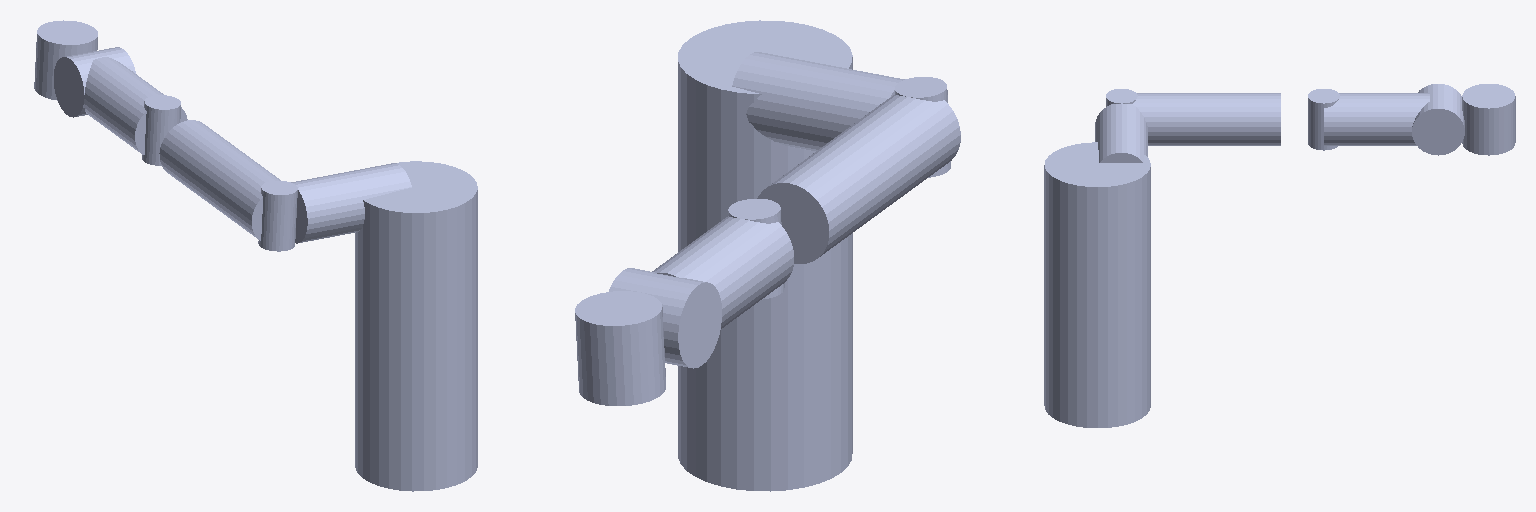
URDF robot description (rightarm):
<?xml version="1.0" encoding="utf-8"?>
<!-- This URDF was automatically created by SolidWorks to URDF Exporter! Originally created by Stephen Brawner (brawner@gmail.com) 
     Commit Version: 1.6.0-1-g15f4949  Build Version: 1.6.7594.29634
     For more information, please see http://wiki.ros.org/sw_urdf_exporter -->
<robot
  name="rightarm">
  <link
    name="base_link">
    <inertial>
      <origin
        xyz="0 0 0"
        rpy="0 0 0" />
      <mass
        value="0.29324" />
      <inertia
        ixx="0.00029756"
        ixy="-6.9587E-20"
        ixz="1.5542E-21"
        iyy="0.0017453"
        iyz="2.2537E-22"
        izz="0.002038" />
    </inertial>
    <visual>
      <origin
        xyz="0 0 0"
        rpy="0 0 0" />
      <geometry>
        <cylinder radius = "0.1" length = "0.5"  />
      </geometry>
      <material
        name="">
        <color
          rgba="0.79216 0.81961 0.93333 1" />
      </material>
    </visual>
  </link>
  <link
    name="llink1">
    <inertial>
      <origin
        xyz="0.041639 -9.5415E-08 0.078526"
        rpy="0 0 0" />
      <mass
        value="0.24987" />
      <inertia
        ixx="0.0006271"
        ixy="1.91E-10"
        ixz="-0.00020699"
        iyy="0.00072937"
        iyz="-5.8334E-10"
        izz="0.00053567" />
    </inertial>
    <visual>
      <origin
        xyz="0 0 0"
        rpy="0 0 0" />
      <geometry>
        <cylinder radius = "0.05" length = "0.2"  />
      </geometry>
      <material
        name="">
        <color
          rgba="0.79216 0.81961 0.93333 1" />
      </material>
    </visual>
  </link>
  <joint
    name="ljoint1"
    type="revolute">
    <origin
      xyz="-0.10762 0.045 0.22804"
      rpy="0 -1.51839 0" />
    <parent
      link="base_link" />
    <child
      link="llink1" />
    <axis
      xyz="0 0 1" />
    <limit
      lower="0"
      upper="0"
      effort="0"
      velocity="0" />
  </joint>
  <link
    name="llink2">
    <inertial>
      <origin
        xyz="-1.0311E-05 -0.065331 0.0058056"
        rpy="0 0 0" />
      <mass
        value="0.26286" />
      <inertia
        ixx="0.0021103"
        ixy="-9.1802E-09"
        ixz="-3.0245E-08"
        iyy="0.00073404"
        iyz="-0.00010005"
        izz="0.0021757" />
    </inertial>
    <visual>
      <origin
        xyz="0 0 0"
        rpy="0 0 0" />
      <geometry>
        <cylinder radius = "0.03" length = "0.1"  />
      </geometry>
      <material
        name="">
        <color
          rgba="0.79216 0.81961 0.93333 1" />
      </material>
    </visual>
  </link>
  <joint
    name="ljoint2"
    type="revolute">
    <origin
      xyz="0 0 0.1265"
      rpy="0 1.57079 0 " />
    <parent
      link="llink1" />
    <child
      link="llink2" />
    <axis
      xyz="0 0 1" />
    <limit
      lower="0"
      upper="0"
      effort="0"
      velocity="0" />
  </joint>
  <link
    name="llink3">
    <inertial>
      <origin
        xyz="4.0057E-08 0.0035526 0.30728"
        rpy="0 0 0" />
      <mass
        value="0.16256" />
      <inertia
        ixx="0.0010114"
        ixy="5.8972E-10"
        ixz="-1.6559E-10"
        iyy="0.0010189"
        iyz="-4.2106E-05"
        izz="0.00031705" />
    </inertial>
    <visual>
      <origin
        xyz="0 0 0.15"
        rpy="0 0 0" />
      <geometry>
        <cylinder radius = "0.05" length = "0.3"  />
      </geometry>
      <material
        name="">
        <color
          rgba="0.79216 0.81961 0.93333 1" />
      </material>
    </visual>
  </link>
  <joint
    name="ljoint3"
    type="revolute">
    <origin
      xyz="0 0 0"
      rpy="-1.5708 0 0" />
    <parent
      link="llink2" />
    <child
      link="llink3" />
    <axis
      xyz="0 0 1" />
    <limit
      lower="0"
      upper="0"
      effort="0"
      velocity="0" />
  </joint>
  <link
    name="llink4">
    <inertial>
      <origin
        xyz="1.1177E-07 -0.074915 0.036559"
        rpy="0 0 0" />
      <mass
        value="0.19929" />
      <inertia
        ixx="0.00072501"
        ixy="2.5788E-10"
        ixz="-9.3888E-11"
        iyy="0.00027207"
        iyz="-0.00017365"
        izz="0.00066506" />
    </inertial>
    <visual>
      <origin
        xyz="0 0 0"
        rpy="0 0 0" />
      <geometry>
        <cylinder radius = "0.03" length = "0.1"  />
      </geometry>
      <material
        name="">
        <color
          rgba="0.79216 0.81961 0.93333 1" />
      </material>
    </visual>
  </link>
  <joint
    name="ljoint4"
    type="revolute">
    <origin
      xyz="0 0 0.38"
      rpy="1.5708 0 0" />
    <parent
      link="llink3" />
    <child
      link="llink4" />
    <axis
      xyz="0 0 1" />
    <limit
      lower="0"
      upper="0"
      effort="0"
      velocity="0" />
  </joint>
  <link
    name="llink5">
    <inertial>
      <origin
        xyz="2.1676E-06 0.0070445 0.19825"
        rpy="0 0 0" />
      <mass
        value="0.066574" />
      <inertia
        ixx="0.00013147"
        ixy="-2.7479E-09"
        ixz="1.8702E-09"
        iyy="0.00013187"
        iyz="-7.9202E-06"
        izz="0.0001047" />
    </inertial>
    <visual>
      <origin
        xyz="0 0 -0.1"
        rpy="0 0 0" />
      <geometry>
        <cylinder radius = "0.05" length = "0.2"  />
      </geometry>
      <material
        name="">
        <color
          rgba="0.79216 0.81961 0.93333 1" />
      </material>
    </visual>
  </link>
  <joint
    name="ljoint5"
    type="revolute">
    <origin
      xyz="0 0 0"
      rpy="1.5708 0 0" />
    <parent
      link="llink4" />
    <child
      link="llink5" />
    <axis
      xyz="0 0 1" />
    <limit
      lower="0"
      upper="0"
      effort="0"
      velocity="0" />
  </joint>
  <link
    name="llink6">
    <inertial>
      <origin
        xyz="-0.0039441 -0.068911 0.030139"
        rpy="0 0 0" />
      <mass
        value="0.10811" />
      <inertia
        ixx="0.00019728"
        ixy="6.4772E-12"
        ixz="-3.1094E-06"
        iyy="0.00010812"
        iyz="-9.3227E-07"
        izz="0.00020592" />
    </inertial>
    <visual>
      <origin
        xyz="0 0 0"
        rpy="0 0 0" />
      <geometry>
        <cylinder radius = "0.05" length = "0.1"  />
      </geometry>
      <material
        name="">
        <color
          rgba="0.79216 0.81961 0.93333 1" />
      </material>
    </visual>
  </link>
  <joint
    name="ljoint6"
    type="revolute">
    <origin
      xyz="0 0 -0.215"
      rpy="0 1.5708 0" />
    <parent
      link="llink5" />
    <child
      link="llink6" />
    <axis
      xyz="0 0 1" />
    <limit
      lower="0"
      upper="0"
      effort="0"
      velocity="0" />
  </joint>
  <link
    name="llink7">
    <inertial>
      <origin
        xyz="3.1729E-09 -0.028673 0.033919"
        rpy="0 0 0" />
      <mass
        value="0.044605" />
      <inertia
        ixx="5.762E-05"
        ixy="6.3373E-12"
        ixz="2.7464E-12"
        iyy="3.3691E-05"
        iyz="-1.6616E-05"
        izz="5.028E-05" />
    </inertial>
    <visual>
      <origin
        xyz="0 0 0"
        rpy="0 0 0" />
      <geometry>
        <cylinder radius = "0.05" length = "0.1"  />
      </geometry>
      <material
        name="">
        <color
          rgba="0.79216 0.81961 0.93333 1" />
      </material>
    </visual>
  </link>
  <joint
    name="ljoint7"
    type="revolute">
    <origin
      xyz="0.095 0 0"
      rpy="0 -1.5708 -1.5708" />
    <parent
      link="llink6" />
    <child
      link="llink7" />
    <axis
      xyz="0 0 1" />
    <limit
      lower="0"
      upper="0"
      effort="0"
      velocity="0" />
  </joint>
</robot>

--- What the picture shows (computed from the rendered views, not written in the file) ---
The picture shows the robot from 3 angles, left to right: view 1: azimuth 30°, elevation 25°; view 2: azimuth 150°, elevation 25°; view 3: azimuth 270°, elevation 25°; orthographic projection.
Robot: rightarm — 8 links, 7 joints (7 revolute); root link base_link; default pose: all joints at 0.
Visible links, largest first — view 1: base_link, llink3, llink1, llink5, llink7, llink2, llink6, llink4; view 2: base_link, llink3, llink1, llink7, llink5, llink6, llink4, llink2; view 3: base_link, llink3, llink5, llink7, llink6, llink1, llink4.
Link boxes in pixels (left/top/right/bottom): base_link: left=355, top=161, right=477, bottom=491; llink3: left=159, top=120, right=280, bottom=240; llink1: left=291, top=163, right=411, bottom=243; llink5: left=84, top=57, right=187, bottom=154; llink7: left=34, top=20, right=97, bottom=100; llink2: left=258, top=181, right=297, bottom=251; llink6: left=54, top=47, right=135, bottom=117; llink4: left=142, top=95, right=180, bottom=165; base_link: left=678, top=20, right=852, bottom=491; llink3: left=757, top=95, right=960, bottom=263; llink1: left=732, top=52, right=904, bottom=150; llink7: left=575, top=291, right=665, bottom=405; llink5: left=652, top=216, right=793, bottom=328; llink6: left=609, top=268, right=721, bottom=368; llink4: left=728, top=199, right=784, bottom=299; llink2: left=895, top=77, right=950, bottom=177; base_link: left=1044, top=142, right=1150, bottom=427; llink3: left=1132, top=93, right=1280, bottom=145; llink5: left=1324, top=93, right=1429, bottom=145; llink7: left=1462, top=84, right=1515, bottom=155; llink6: left=1412, top=84, right=1464, bottom=155; llink1: left=1095, top=104, right=1147, bottom=162; llink4: left=1308, top=89, right=1339, bottom=150.
Size in the robot's own frame: 0.3865 by 0.885 by 0.5372 metres.
Geometry: primitives only (box / cylinder / sphere), no mesh files.
